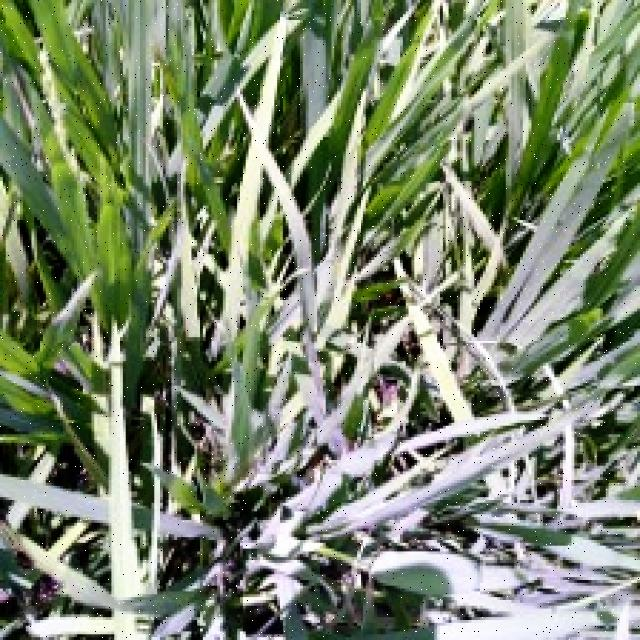health: (0, 0, 157, 350)
